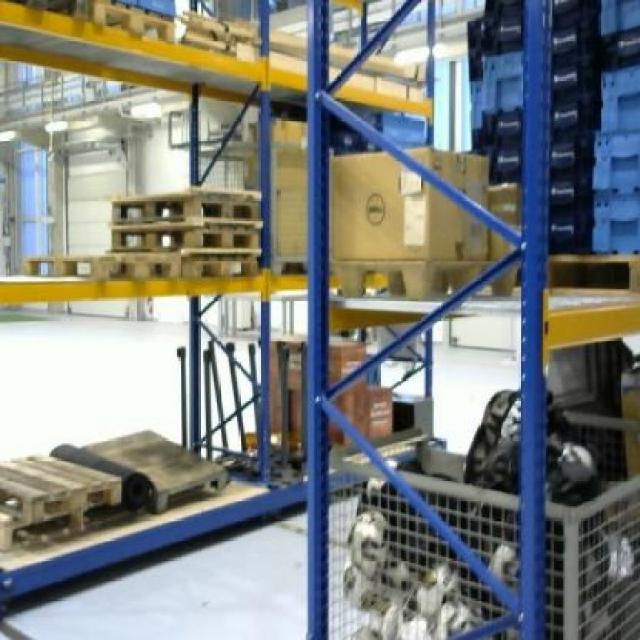box: (328, 148, 489, 262), (274, 116, 306, 258)
